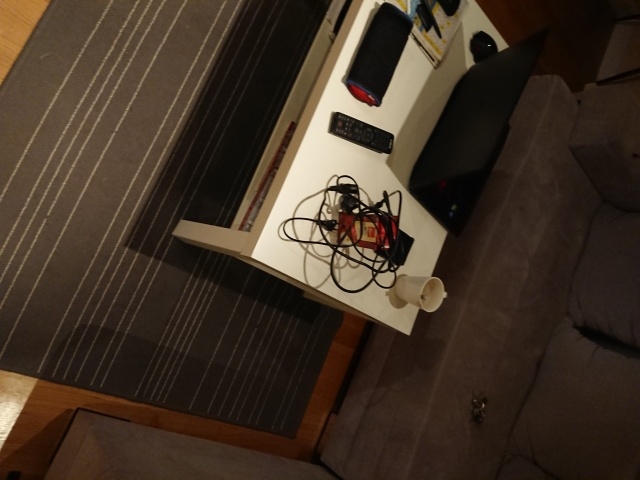Franck Apple Cinnamon Tea 60g: (335, 209, 402, 252)
